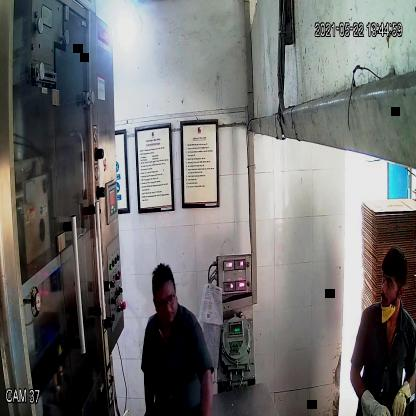goggles: (152, 294, 180, 312)
no_goggles: (379, 273, 405, 294)
